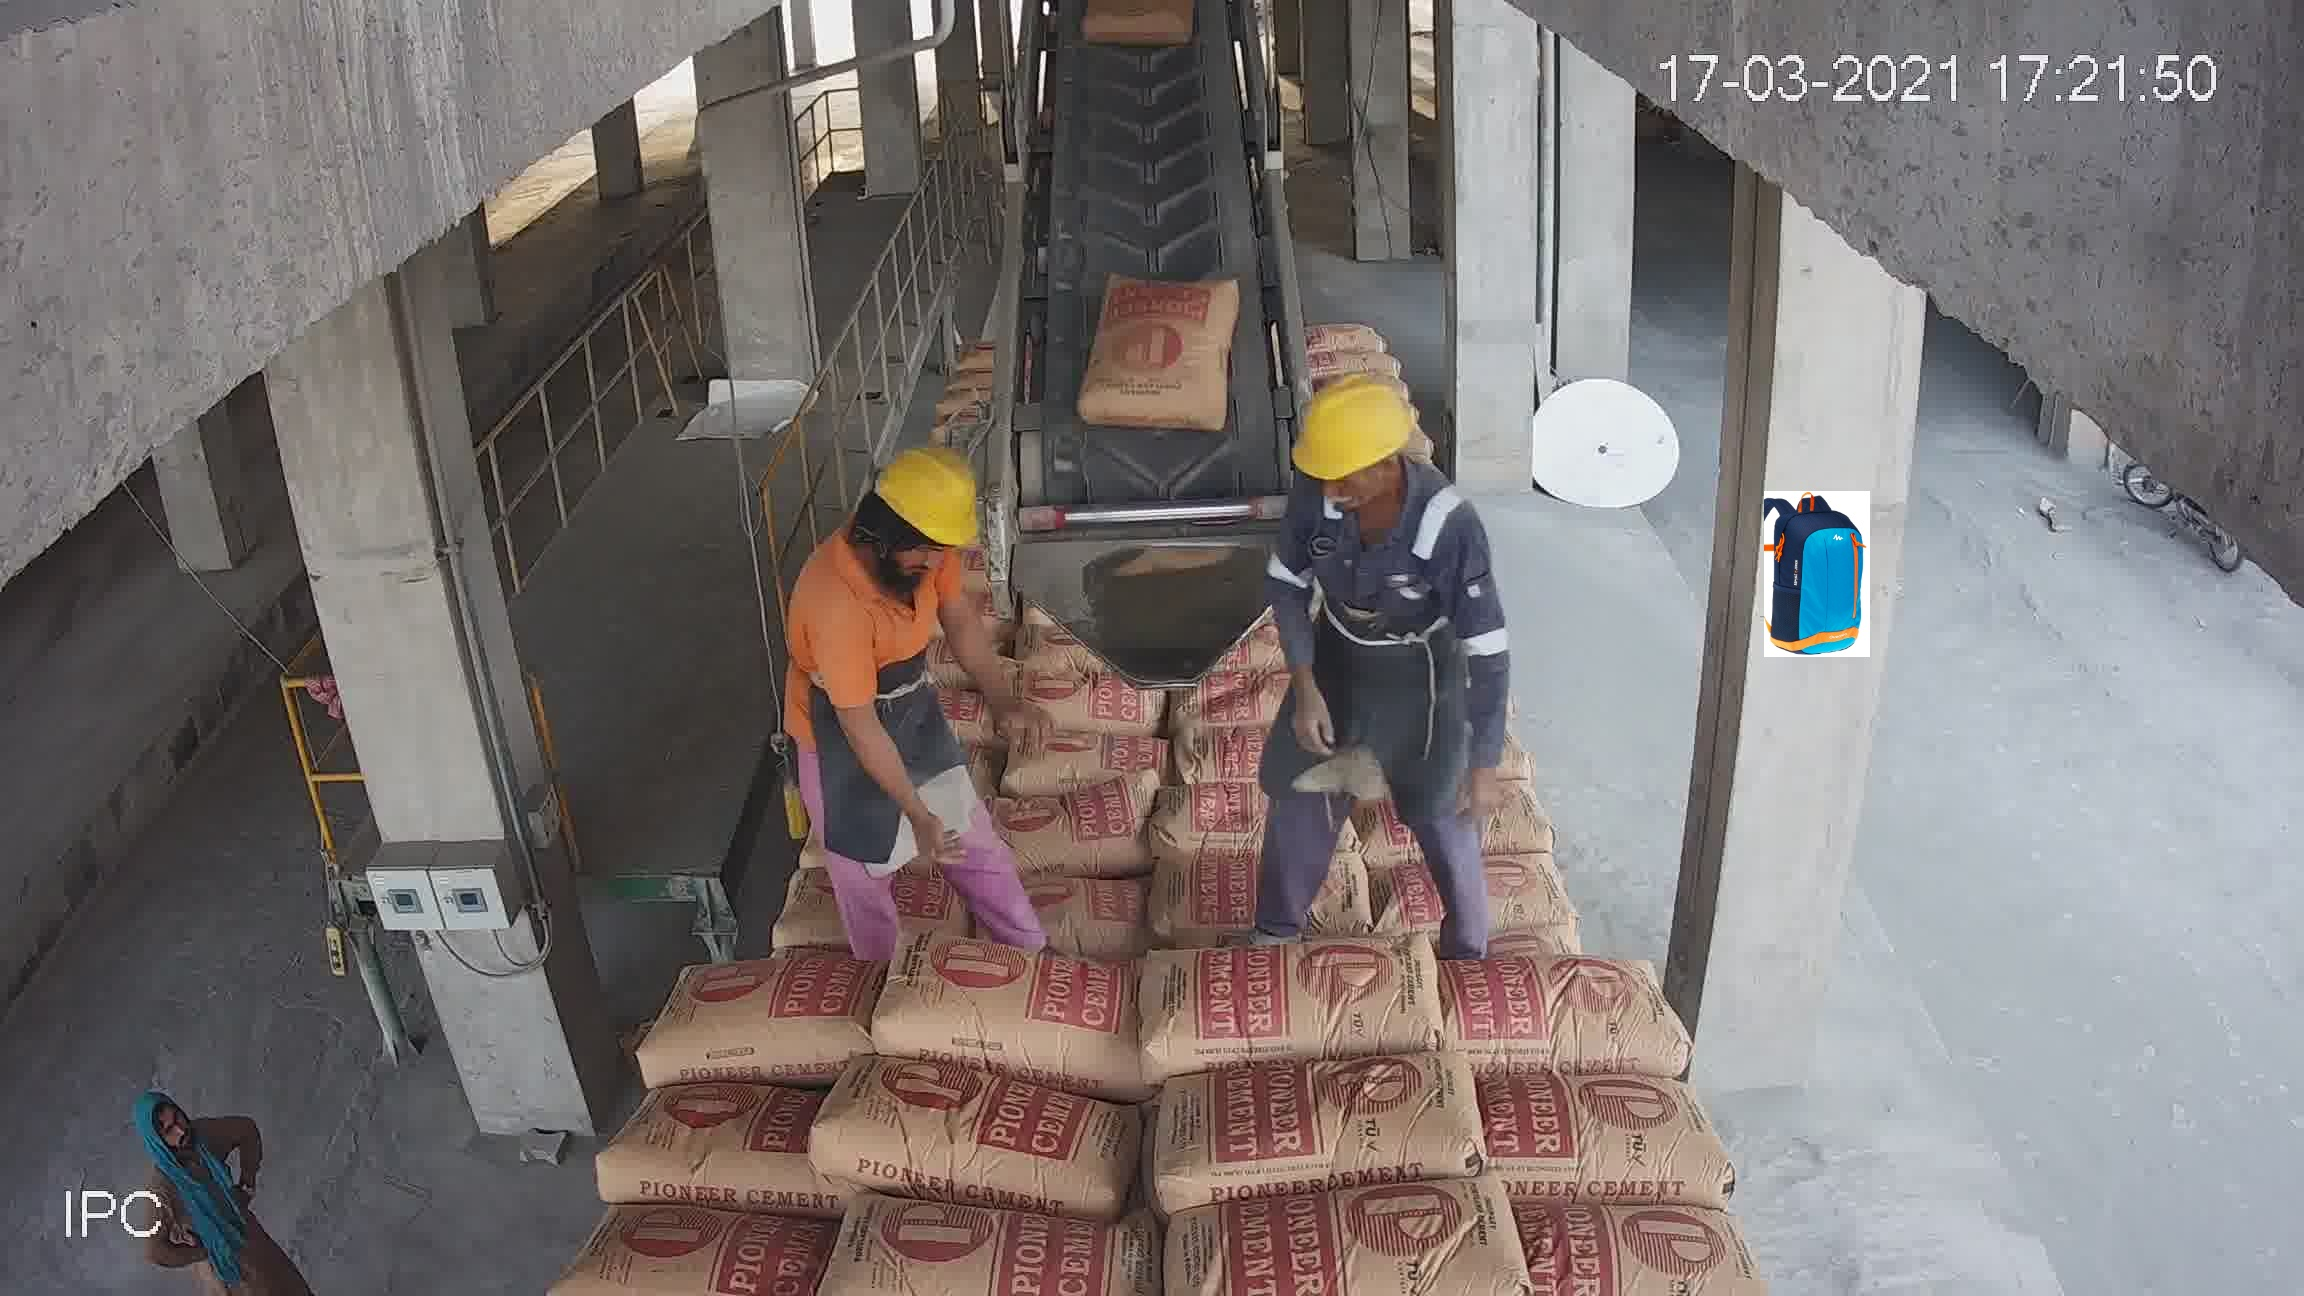bag_h: (1157, 1043, 1492, 1217), (1105, 923, 1442, 1057), (798, 1074, 1150, 1199), (631, 957, 915, 1084), (886, 956, 1171, 1074), (1111, 718, 1396, 834), (1195, 1188, 1525, 1287), (1158, 840, 1442, 954), (820, 1203, 1146, 1290), (1468, 1086, 1733, 1190), (1529, 1192, 1780, 1296), (1415, 847, 1647, 959), (1453, 965, 1673, 1084), (597, 1090, 826, 1199), (1367, 760, 1612, 861), (658, 875, 889, 975), (869, 858, 1157, 935), (714, 772, 911, 885), (926, 742, 1154, 837), (560, 1222, 823, 1294), (1022, 671, 1165, 742), (1003, 571, 1165, 628), (1173, 510, 1326, 567), (1176, 604, 1321, 661), (1155, 674, 1320, 723), (1176, 570, 1336, 619), (915, 506, 1036, 557), (915, 462, 1024, 513), (1025, 628, 1173, 660), (945, 549, 1059, 582)
belt: (1013, 0, 1301, 517)
